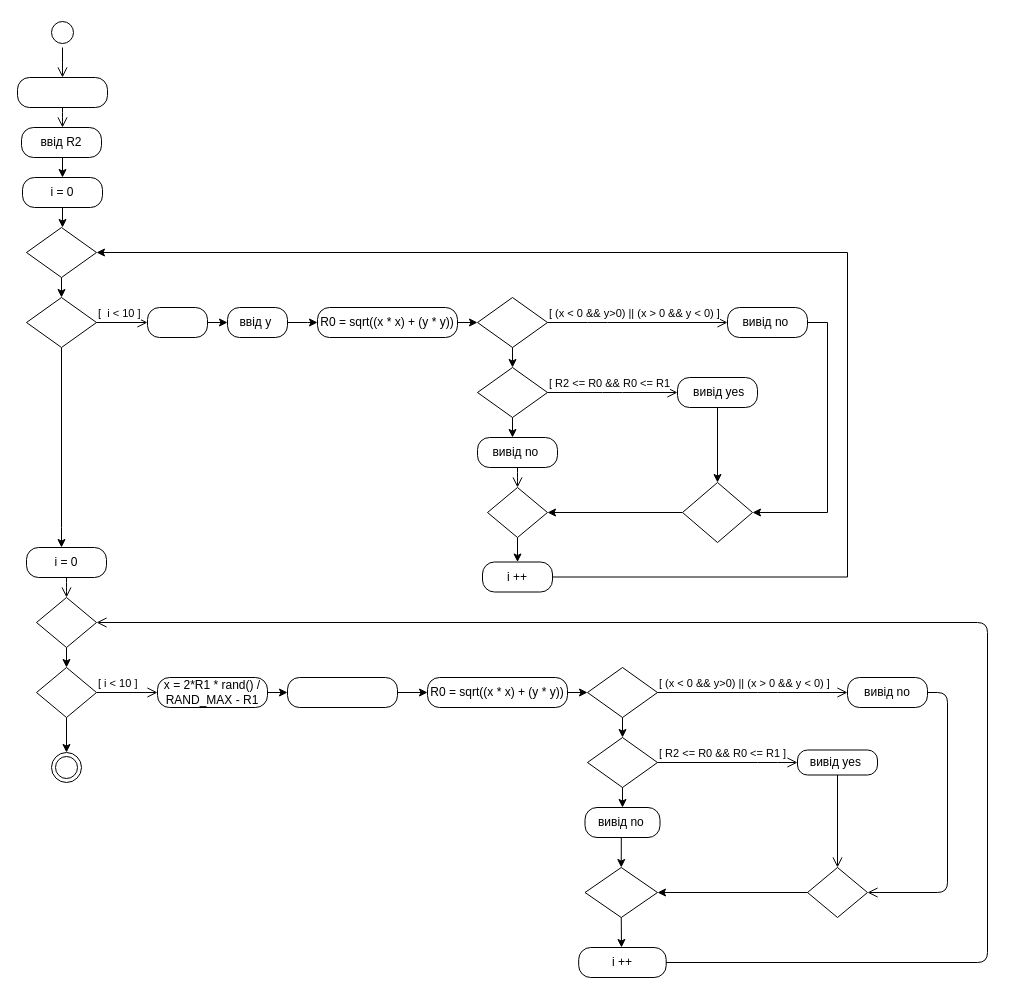
Image size: 1015x995. Some labels were removed from this diagram. The centre of each missing label's shape, as x and y in pixels:
"y = 2*R1 * rand() / RAND_MAX - R1" goes at point 342,692.
"ввід R1" goes at point 62,92.
"ввід x" goes at point 177,322.
